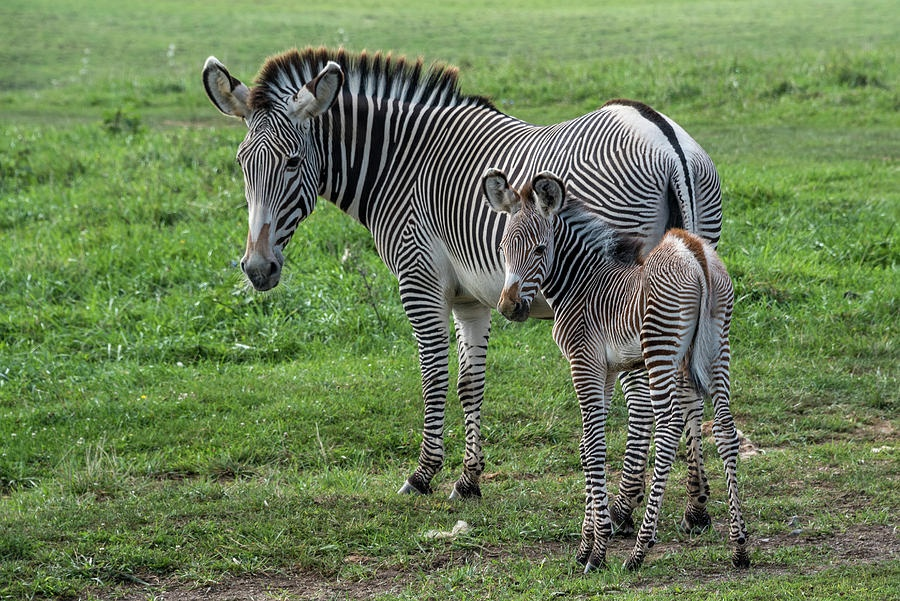zebra: (201, 45, 731, 497), (478, 168, 755, 573)
